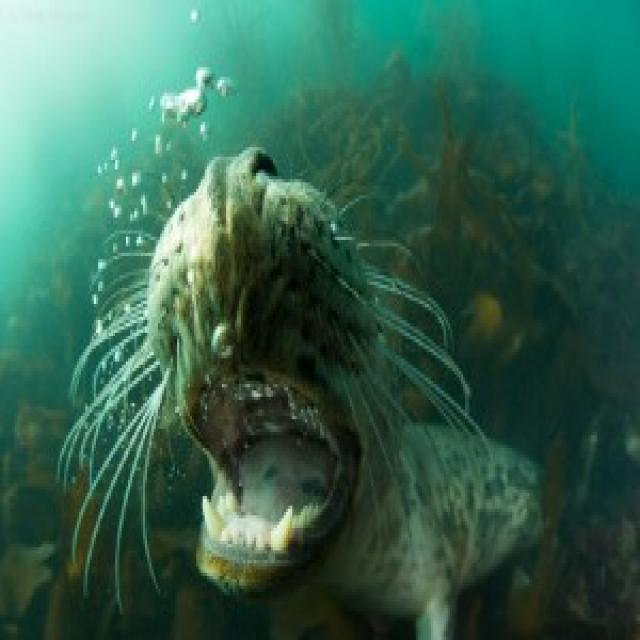Seal: (126, 142, 524, 640)
